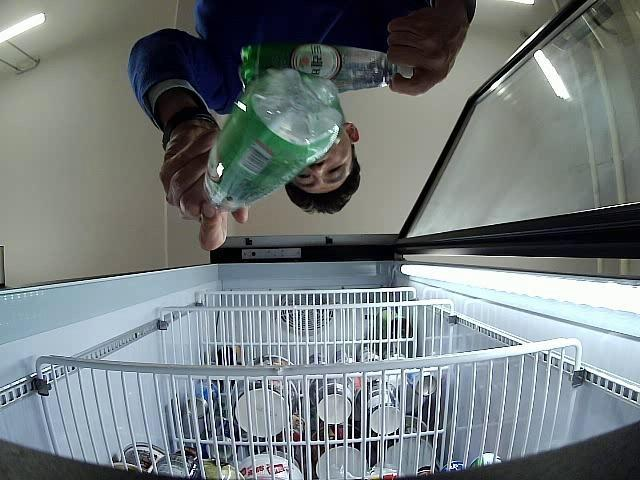18_trevi: (205, 72, 344, 210), (242, 47, 412, 91)
